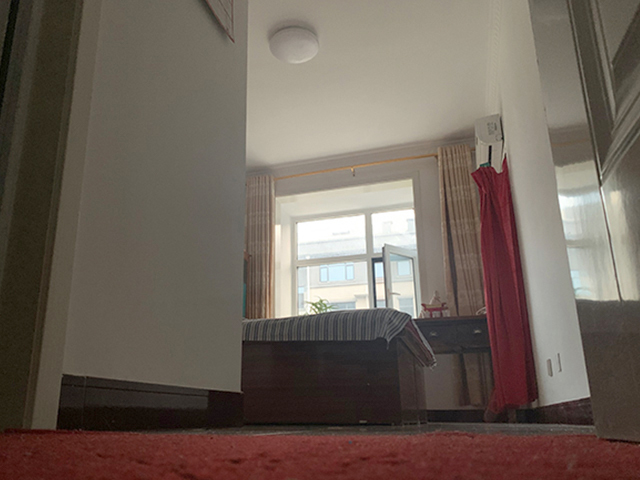bed: (241, 307, 437, 426)
carpet: (1, 427, 640, 480)
curtain: (439, 142, 494, 408), (245, 169, 275, 318)
